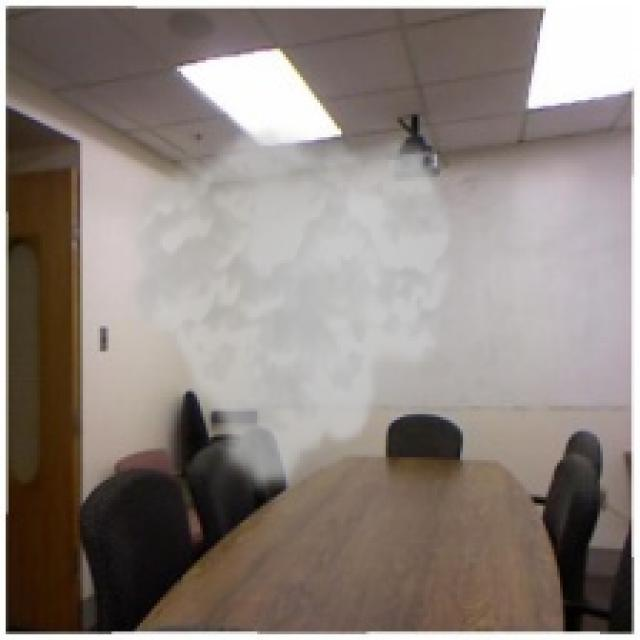smoke: (117, 123, 463, 497)
